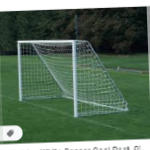goals: (16, 37, 130, 118)
